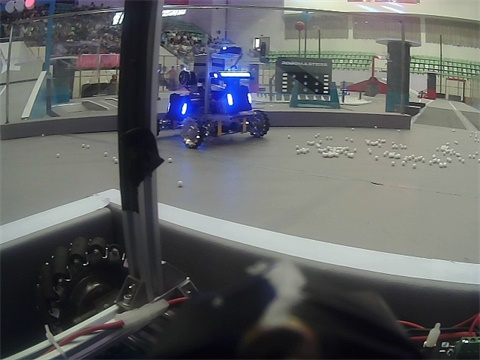chariot: (168, 49, 278, 152)
